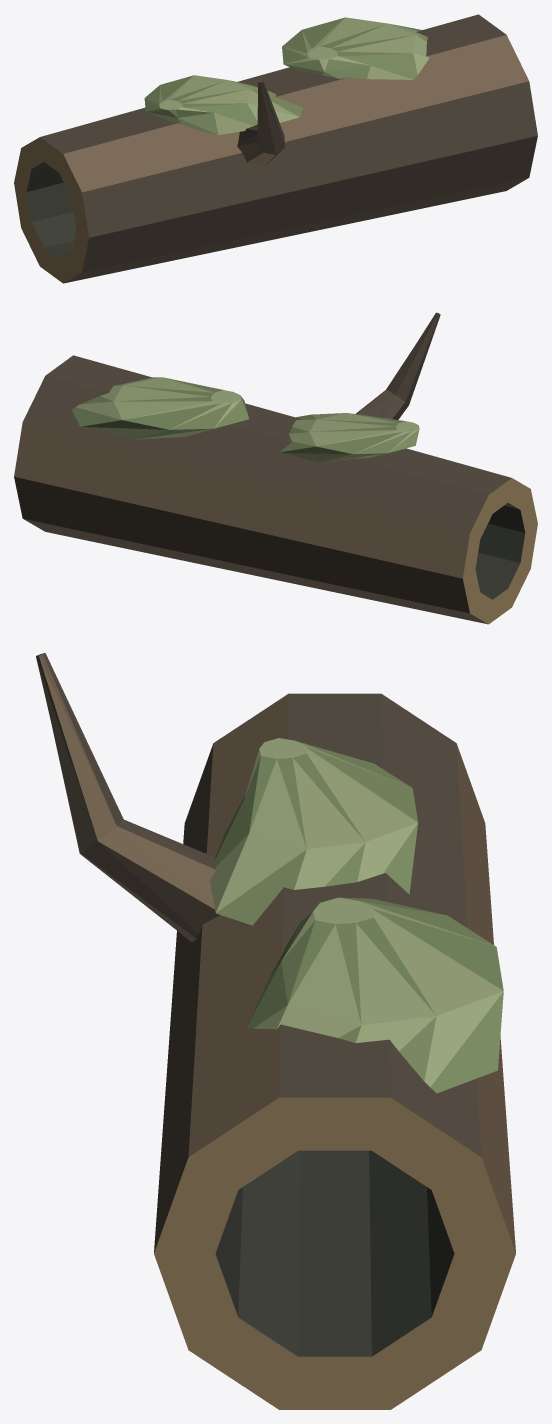
Rendered from AE_Swamp_Rotwood.fbx.
3 renders of one model, top to bottom at view 1: azimuth 30°, elevation 25°; view 2: azimuth 150°, elevation 25°; view 3: azimuth 270°, elevation 25°, orthographic. The views are drawn at different scales.
Visible parts, largest first — view 1: AE_Swamp_Rotwood; view 2: AE_Swamp_Rotwood; view 3: AE_Swamp_Rotwood.
Part boxes in pixels (x1,y1,x2,y2): AE_Swamp_Rotwood: [14, 14, 537, 283]; AE_Swamp_Rotwood: [14, 312, 537, 624]; AE_Swamp_Rotwood: [36, 653, 515, 1409].
Bounding box in the file's own units: 1.35 × 0.6713 × 0.6364.
